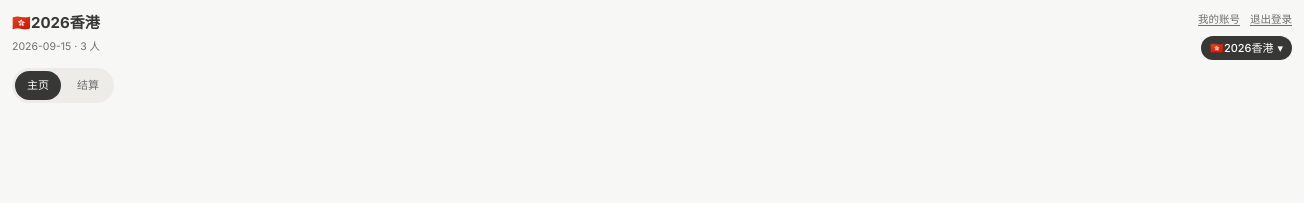
Test: TripHeaderNav 下拉面板 › 没有其它行程时（owner，仅自己一趟）也不显示旧标题行，"新建行程"仍在列表末尾
Click the button "🇭🇰2026香港 ▾": [1246, 48] box [1201, 36, 1292, 60]
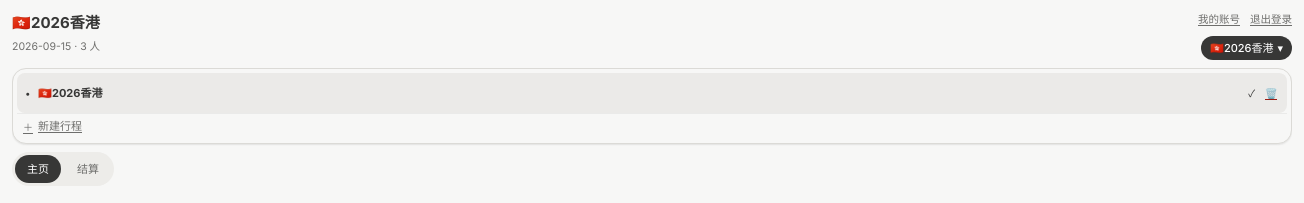
Now the number of list items is 2, box [17, 73, 1287, 113]; [17, 113, 1287, 139]
Now the list item "＋ 新建行程" is shown, box [17, 113, 1287, 139]
